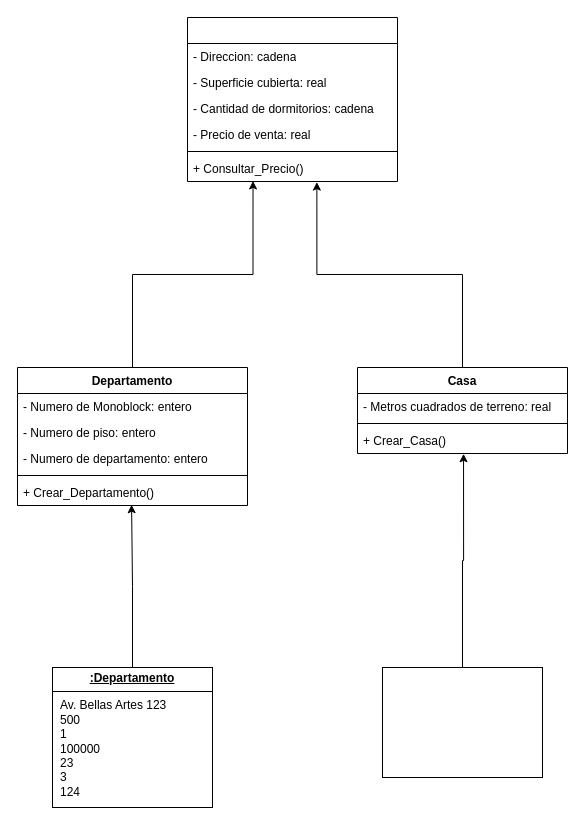
The diagram is 585 pixels wide and 825 high, and some of its shapes have lost their labels. Each missing label, with the box of its shape:
:Casa Ameghino 229 Norte 1000 5 10000000 1000: (382, 666, 542, 778)
Inmueble: (186, 16, 398, 182)
